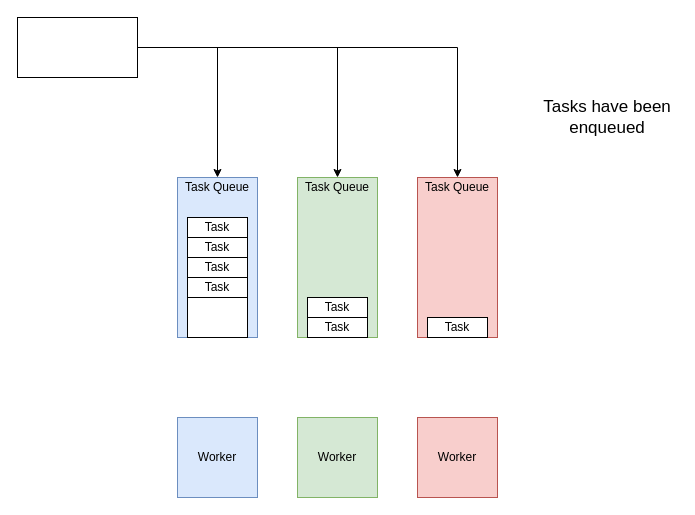
Image size: 695x515. Some labels were removed from this diagram. Here are the shapes that lost their labels. From the top down, the box of each, then its label:
(16, 16, 138, 78): Runtime::spawn
(186, 296, 248, 338): Big Task
